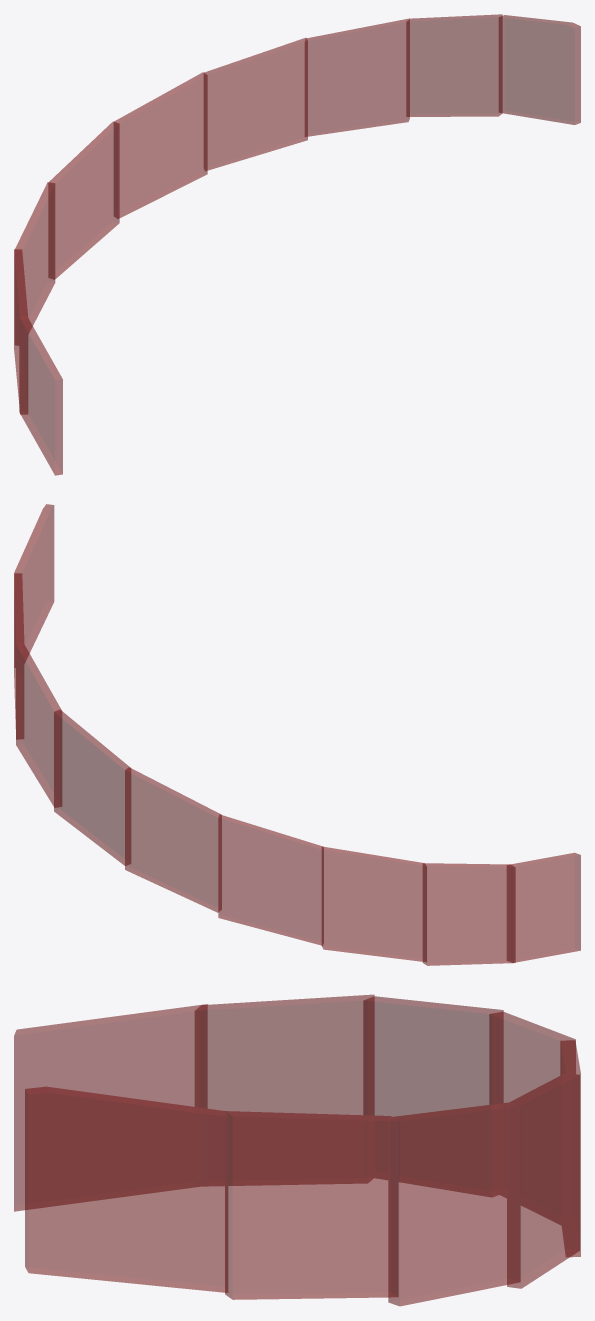
File: SM_Bld_Stairs_Curved_Railing_L_01_Collision.fbx
3 renders of one model, top to bottom at view 1: azimuth 30°, elevation 25°; view 2: azimuth 150°, elevation 25°; view 3: azimuth 270°, elevation 25°, orthographic. The views are drawn at different scales.
Parts seen in each view (by area): view 1: SM_Bld_Stairs_Curved_Railing_L_01_Collision; view 2: SM_Bld_Stairs_Curved_Railing_L_01_Collision; view 3: SM_Bld_Stairs_Curved_Railing_L_01_Collision.
Part boxes in pixels (left/top/right/bottom): SM_Bld_Stairs_Curved_Railing_L_01_Collision: left=14, top=14, right=580, bottom=475; SM_Bld_Stairs_Curved_Railing_L_01_Collision: left=14, top=504, right=580, bottom=965; SM_Bld_Stairs_Curved_Railing_L_01_Collision: left=14, top=994, right=580, bottom=1306.
Bounding box in the file's own units: 711 × 408 × 358.
